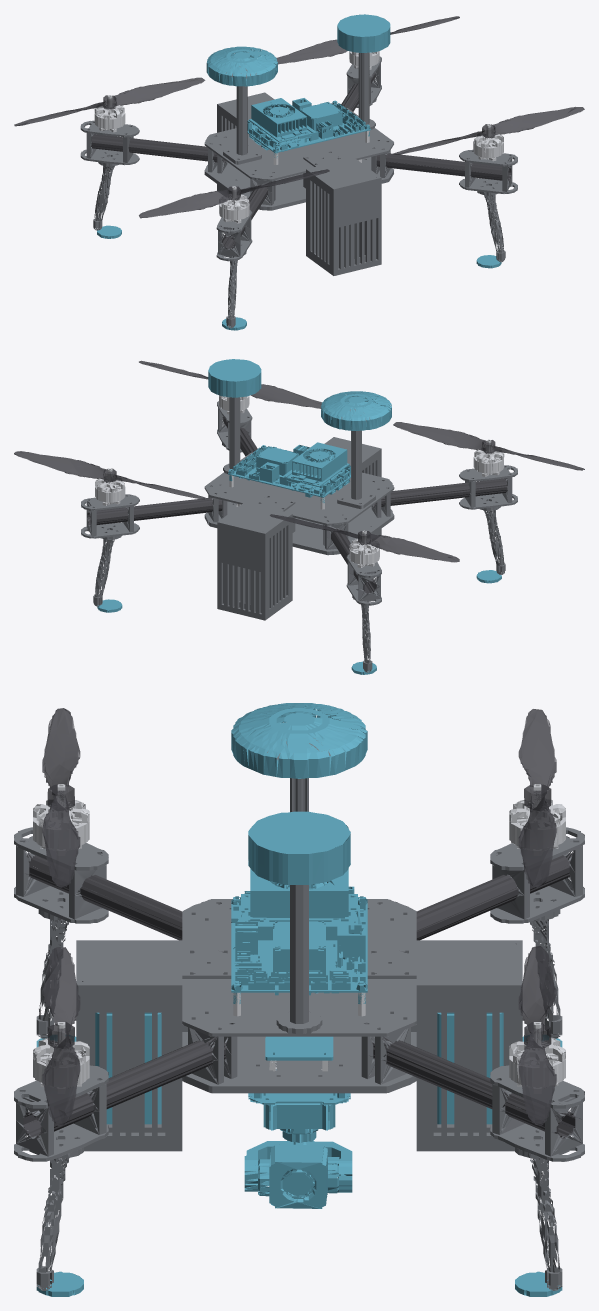
File: pallas.glb
The picture shows the model from 3 angles, top to bottom: view 1: azimuth 30°, elevation 25°; view 2: azimuth 150°, elevation 25°; view 3: azimuth 270°, elevation 25°; orthographic projection. The views are drawn at different scales.
Visible parts, largest first — view 1: Pallas V2; view 2: Pallas V2; view 3: Pallas V2.
Boxes of the visible parts, box(x1,y1,x2,y2) form: Pallas V2: box(14, 14, 584, 330); Pallas V2: box(14, 359, 584, 674); Pallas V2: box(14, 703, 584, 1296).
Bounding box in the file's own units: 0.585 × 0.2599 × 0.3399.
